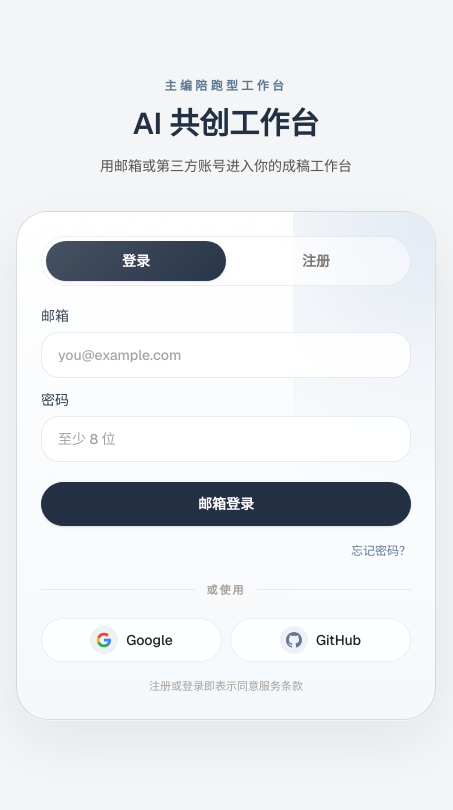
Scenario: LoginPage › resets a password with an email OTP
Click the button "忘记密码？": [381, 550] box [351,542,411,558]
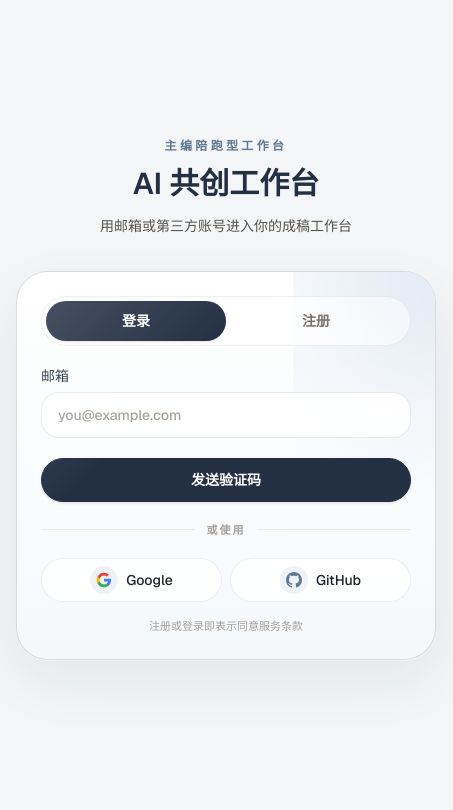
In the field labelled "邮箱": [226, 414] box [41,392,411,438], type "reader@qq.com"
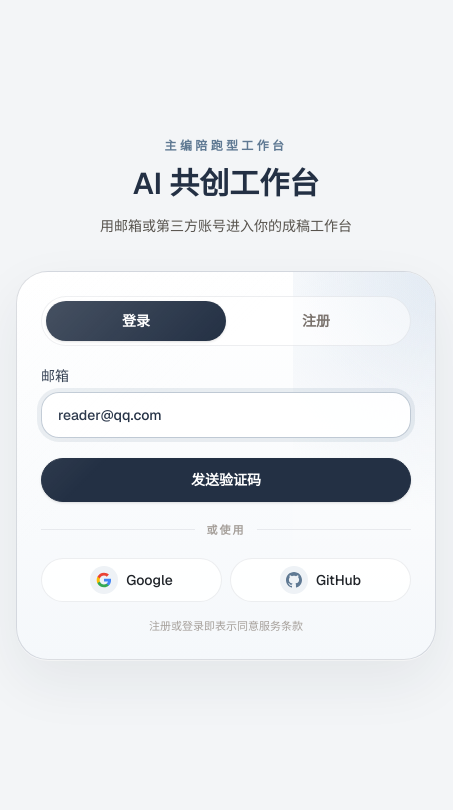
Click the button "发送验证码": [226, 480] box [41,458,411,502]
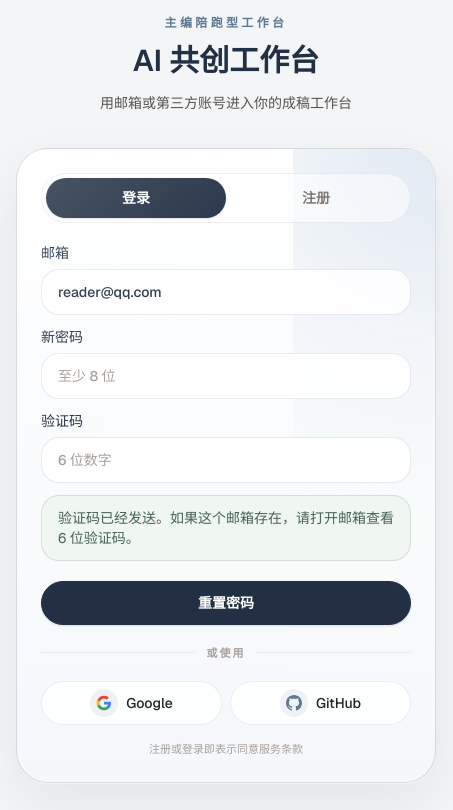
Expected: the text "验证码已经发送。如果这个邮箱存在，请打开邮箱查看 6 位验证码。" is shown, [41,494,411,560]
In the field labelled "验证码": [226, 460] box [41,436,411,482], type "123456"
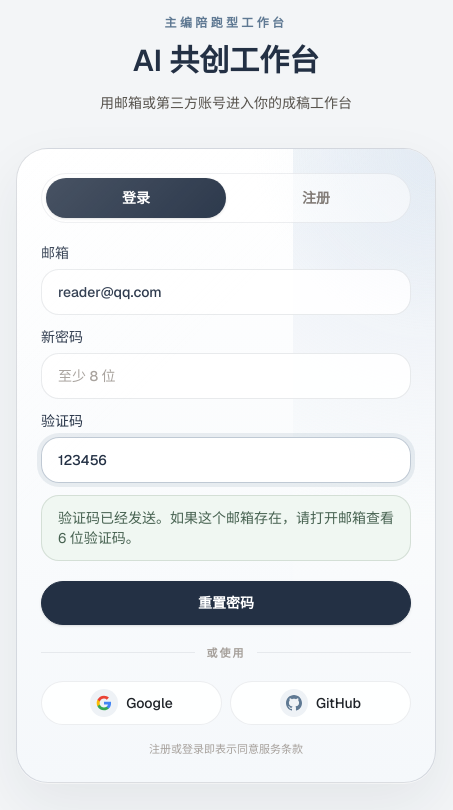
In the password field labelled "新密码": [226, 376] box [41,352,411,398], type "newpassword123"
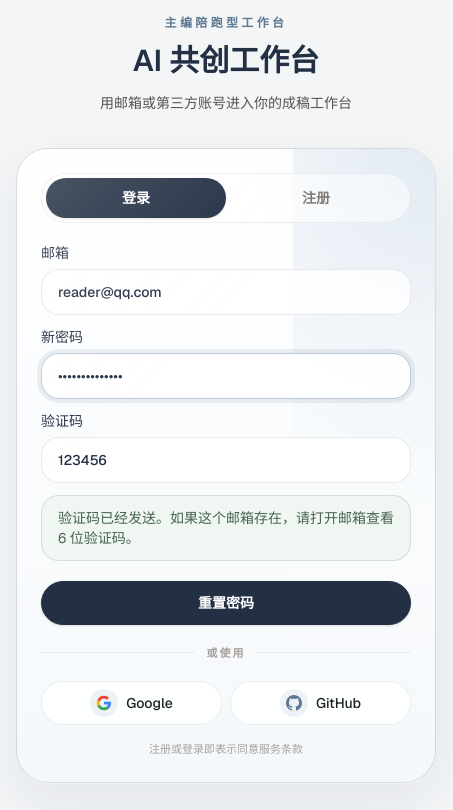
Click the button "重置密码": [226, 602] box [41,580,411,624]
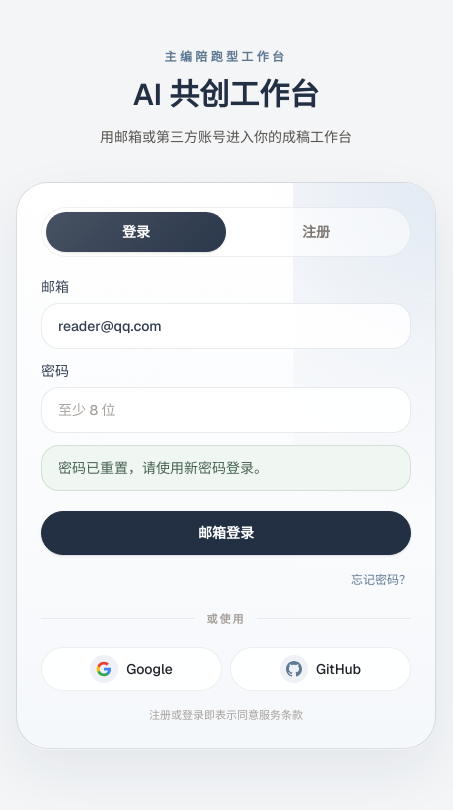
Expected: the text "密码已重置，请使用新密码登录。" is shown, [41,444,411,490]
